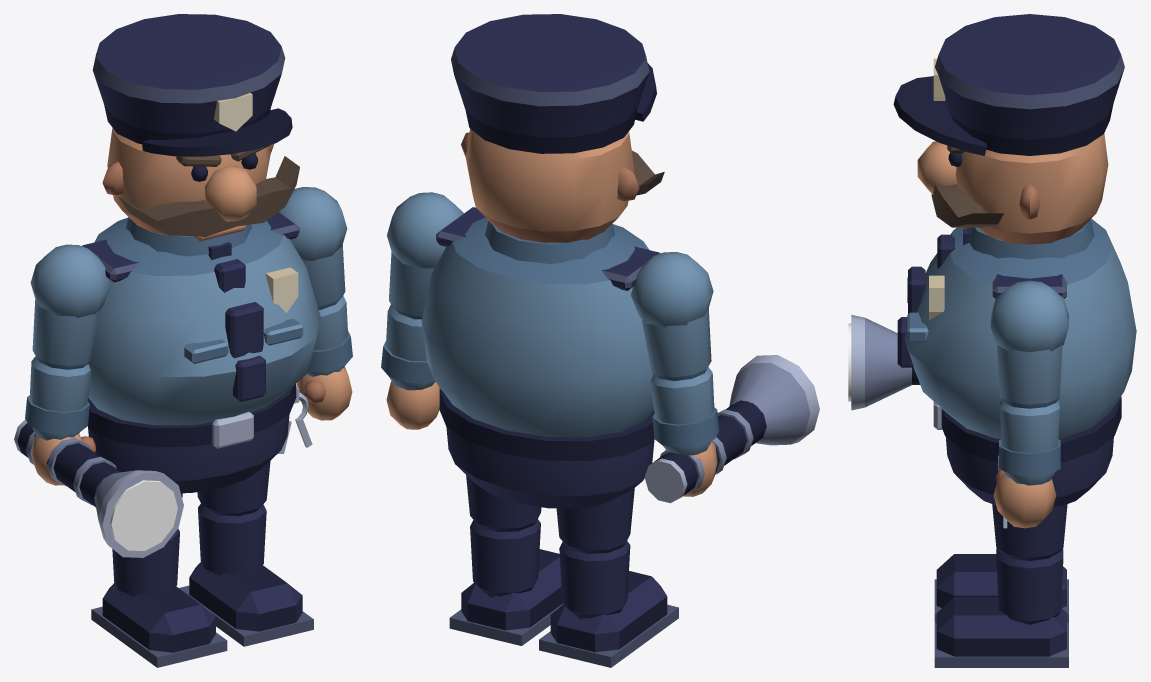
The model's file is Gus.fbx.
The picture shows the model from 3 angles, left to right: view 1: azimuth 30°, elevation 25°; view 2: azimuth 150°, elevation 25°; view 3: azimuth 270°, elevation 25°; orthographic projection. The views are drawn at different scales.
Visible parts, largest first — view 1: Gus_UpperTorso, Gus_Cap, Gus_Head, Gus_LowerTorso, Gus_RightUpperArm, Gus_RightFoot, Gus_LeftFoot, Gus_Flashlight, Gus_LeftUpperArm, Gus_RightLowerArm, Gus_LeftLowerLeg, Gus_FlashlightLens (+5 smaller); view 2: Gus_UpperTorso, Gus_Cap, Gus_Head, Gus_LowerTorso, Gus_Flashlight, Gus_RightUpperArm, Gus_RightFoot, Gus_LeftUpperArm, Gus_LeftFoot, Gus_RightLowerArm, Gus_RightLowerLeg, Gus_LeftLowerLeg (+5 smaller); view 3: Gus_UpperTorso, Gus_Cap, Gus_Head, Gus_LeftUpperArm, Gus_LeftFoot, Gus_LowerTorso, Gus_LeftLowerArm, Gus_Flashlight, Gus_LeftLowerLeg, Gus_RightFoot, Gus_LeftUpperLeg, Gus_LeftHand.
Part boxes in pixels (x1,y1,x2,y2): Gus_UpperTorso: [82, 212, 320, 425]; Gus_Cap: [92, 14, 292, 156]; Gus_Head: [102, 128, 299, 241]; Gus_LowerTorso: [87, 384, 312, 493]; Gus_RightUpperArm: [30, 244, 110, 369]; Gus_RightFoot: [91, 583, 227, 667]; Gus_LeftFoot: [179, 562, 313, 646]; Gus_Flashlight: [14, 419, 183, 557]; Gus_LeftUpperArm: [279, 187, 347, 309]; Gus_RightLowerArm: [25, 356, 90, 440]; Gus_LeftLowerLeg: [198, 504, 266, 575]; Gus_FlashlightLens: [110, 480, 177, 550]; Gus_UpperTorso: [421, 207, 660, 437]; Gus_Cap: [451, 14, 656, 153]; Gus_Head: [461, 128, 664, 242]; Gus_LowerTorso: [439, 389, 654, 508]; Gus_Flashlight: [644, 355, 819, 503]; Gus_RightUpperArm: [631, 252, 713, 380]; Gus_RightFoot: [539, 571, 678, 667]; Gus_LeftUpperArm: [387, 192, 463, 319]; Gus_LeftFoot: [449, 549, 563, 645]; Gus_RightLowerArm: [651, 367, 719, 455]; Gus_RightLowerLeg: [559, 541, 630, 618]; Gus_LeftLowerLeg: [470, 519, 540, 596]; Gus_UpperTorso: [897, 218, 1136, 438]; Gus_Cap: [893, 14, 1124, 155]; Gus_Head: [917, 134, 1108, 244]; Gus_LeftUpperArm: [990, 280, 1068, 408]; Gus_LeftFoot: [934, 597, 1068, 667]; Gus_LowerTorso: [933, 396, 1121, 528]; Gus_LeftLowerArm: [999, 400, 1060, 485]; Gus_Flashlight: [851, 315, 920, 410]; Gus_LeftLowerLeg: [996, 548, 1063, 624]; Gus_RightFoot: [934, 554, 1068, 622]; Gus_LeftUpperLeg: [992, 504, 1067, 560]; Gus_LeftHand: [993, 469, 1056, 528].
Size of the model in its own units: 4.01 by 6.5 by 2.94.
Materials: 1 (1 with a texture image).
